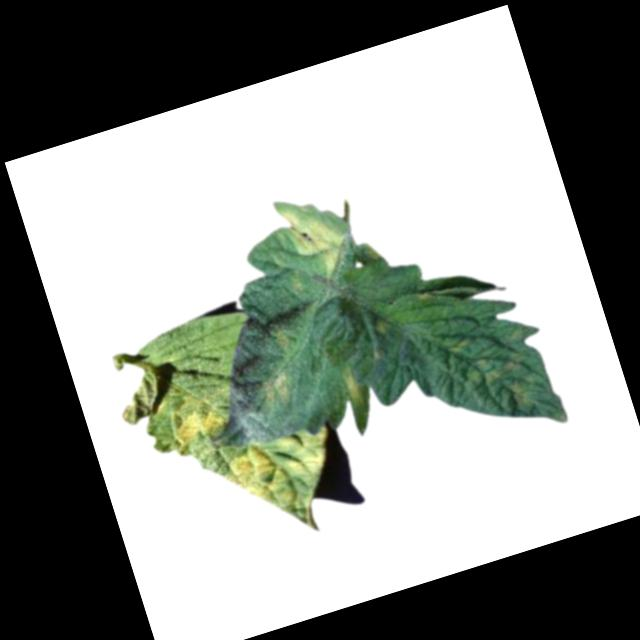Leaf_Mold: (213, 418, 355, 550), (455, 323, 558, 432), (266, 183, 356, 286), (155, 385, 232, 456), (334, 358, 370, 414), (259, 367, 297, 412)
